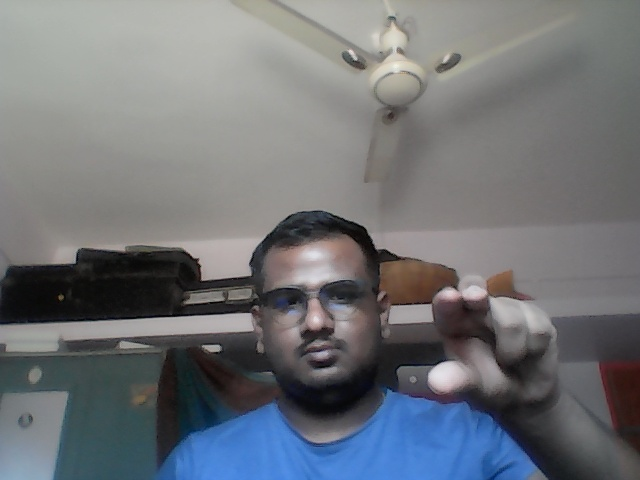No: (424, 271, 565, 416)
